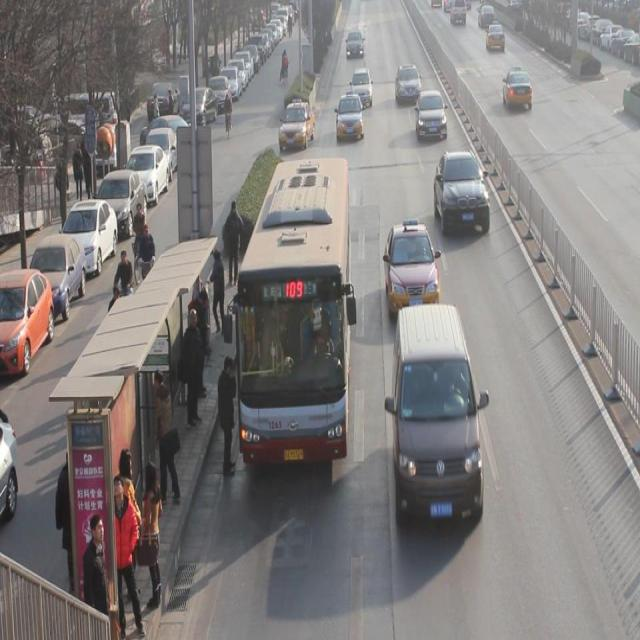car: (384, 221, 440, 308), (434, 150, 491, 235), (280, 99, 316, 151), (416, 88, 447, 141), (337, 90, 364, 140), (502, 66, 532, 110), (396, 63, 422, 104), (352, 67, 374, 108), (486, 19, 506, 51), (346, 29, 364, 60)
truck: (392, 304, 484, 522)
van: (235, 157, 350, 463)
